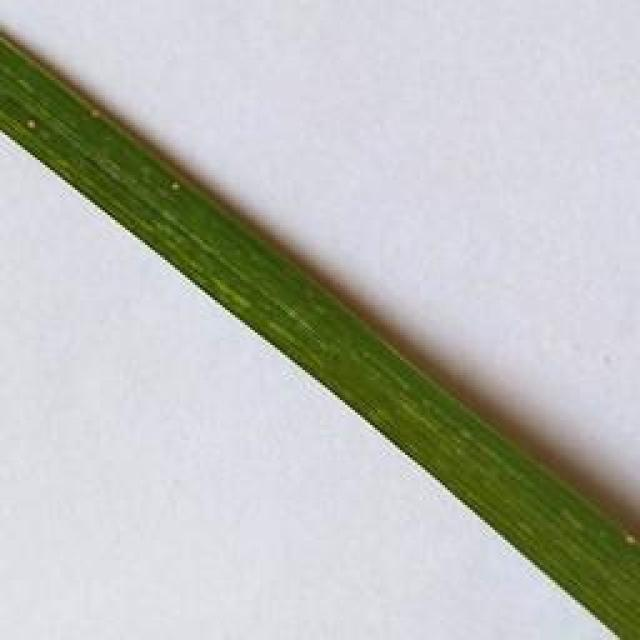Unhealthy: (621, 533, 639, 548), (23, 117, 40, 130), (169, 180, 183, 191), (90, 106, 101, 117)
